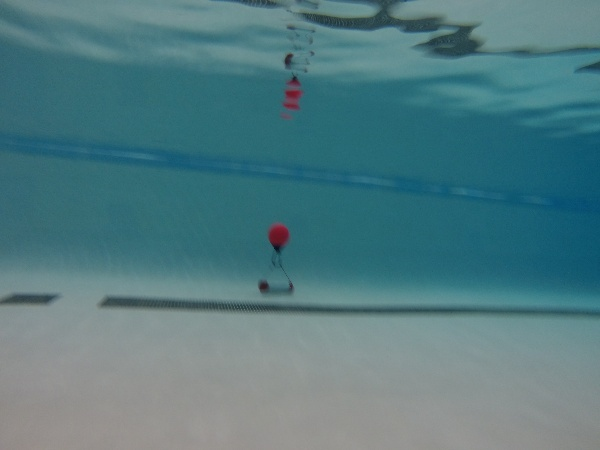buoy_red: (263, 219, 292, 254)
